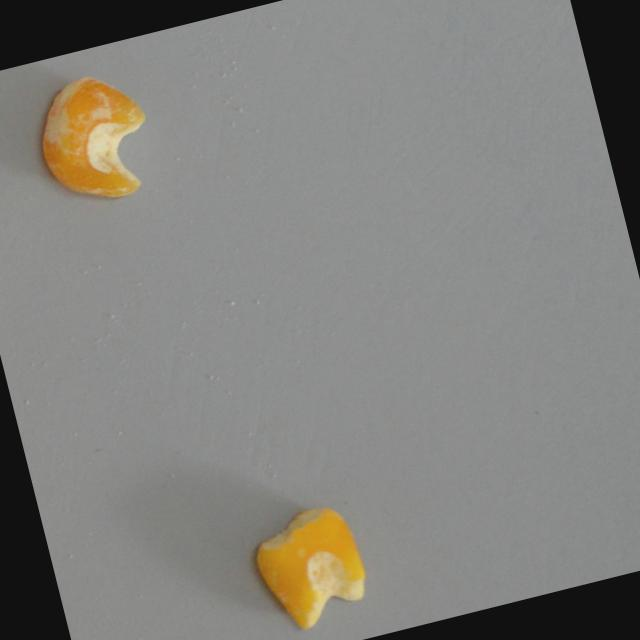no_canjicado: (243, 499, 376, 638)
pelicula: (26, 63, 164, 213)
